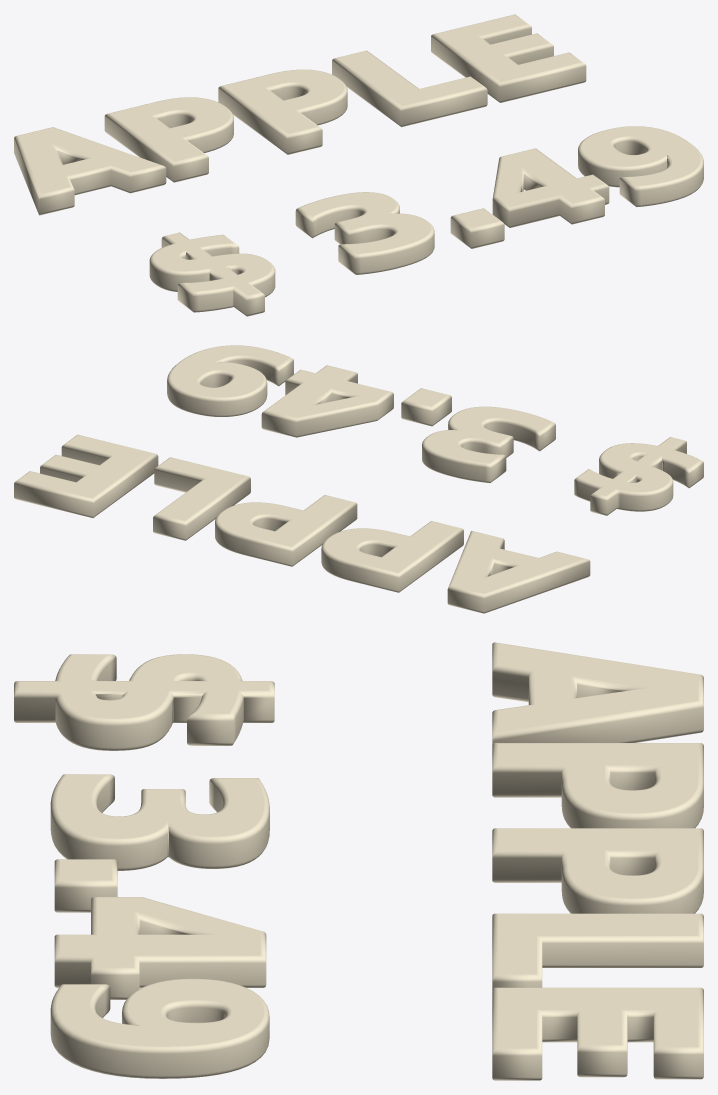
The model's file is SM_EG_Produce_price_8f4c6b9623.fbx.
The picture shows the model from 3 angles, top to bottom: view 1: azimuth 30°, elevation 25°; view 2: azimuth 150°, elevation 25°; view 3: azimuth 270°, elevation 25°; orthographic projection. The views are drawn at different scales.
Visible parts, largest first — view 1: SM_EG_Produce_price_8f4c6b9623; view 2: SM_EG_Produce_price_8f4c6b9623; view 3: SM_EG_Produce_price_8f4c6b9623.
Part boxes in pixels (<box>): SM_EG_Produce_price_8f4c6b9623: <box>14,14,703,316</box>; SM_EG_Produce_price_8f4c6b9623: <box>14,345,703,613</box>; SM_EG_Produce_price_8f4c6b9623: <box>14,642,703,1080</box>.
Bounding box in the file's own units: 12.21 × 8.67 × 0.44.
